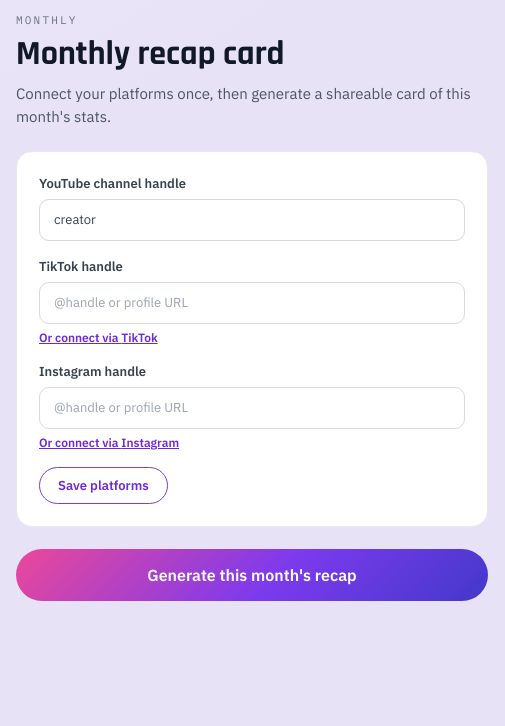
Test case: RecapPage › shows an error and a retry button when generation fails
The image size is (505, 726).
Click the button "Generate this month's recap" at (252, 575), box x1=16 y1=549 x2=488 y2=601
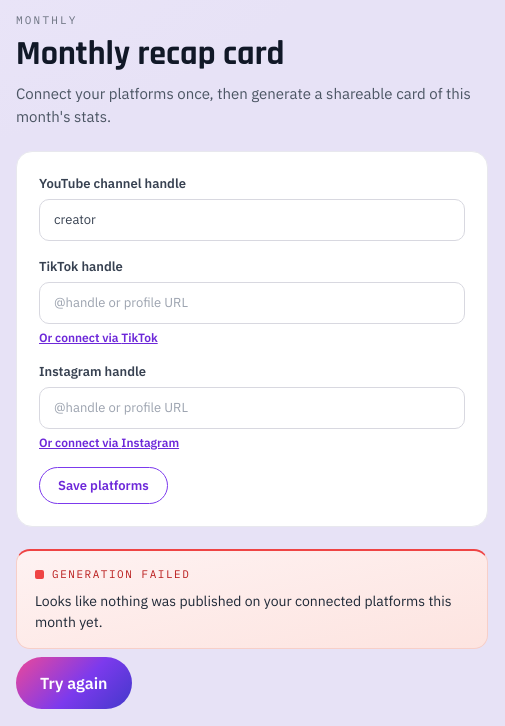
Expected: the message shows "nothing was published", x1=35 y1=592 x2=452 y2=631
Expected: the button "Try again" is shown, x1=16 y1=657 x2=132 y2=709
